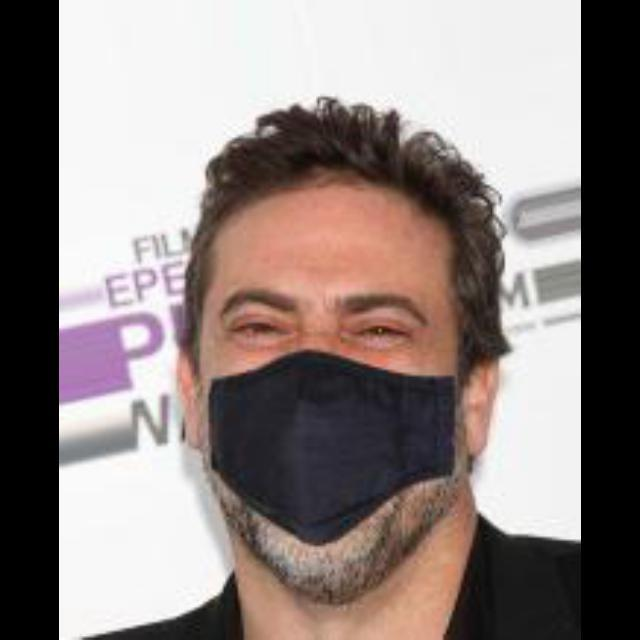suspicion: (172, 165, 524, 578)
